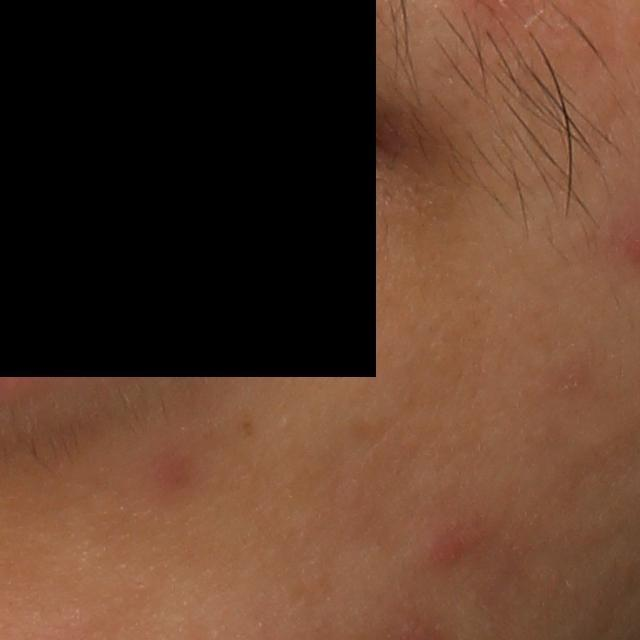papule: (420, 522, 480, 570)
